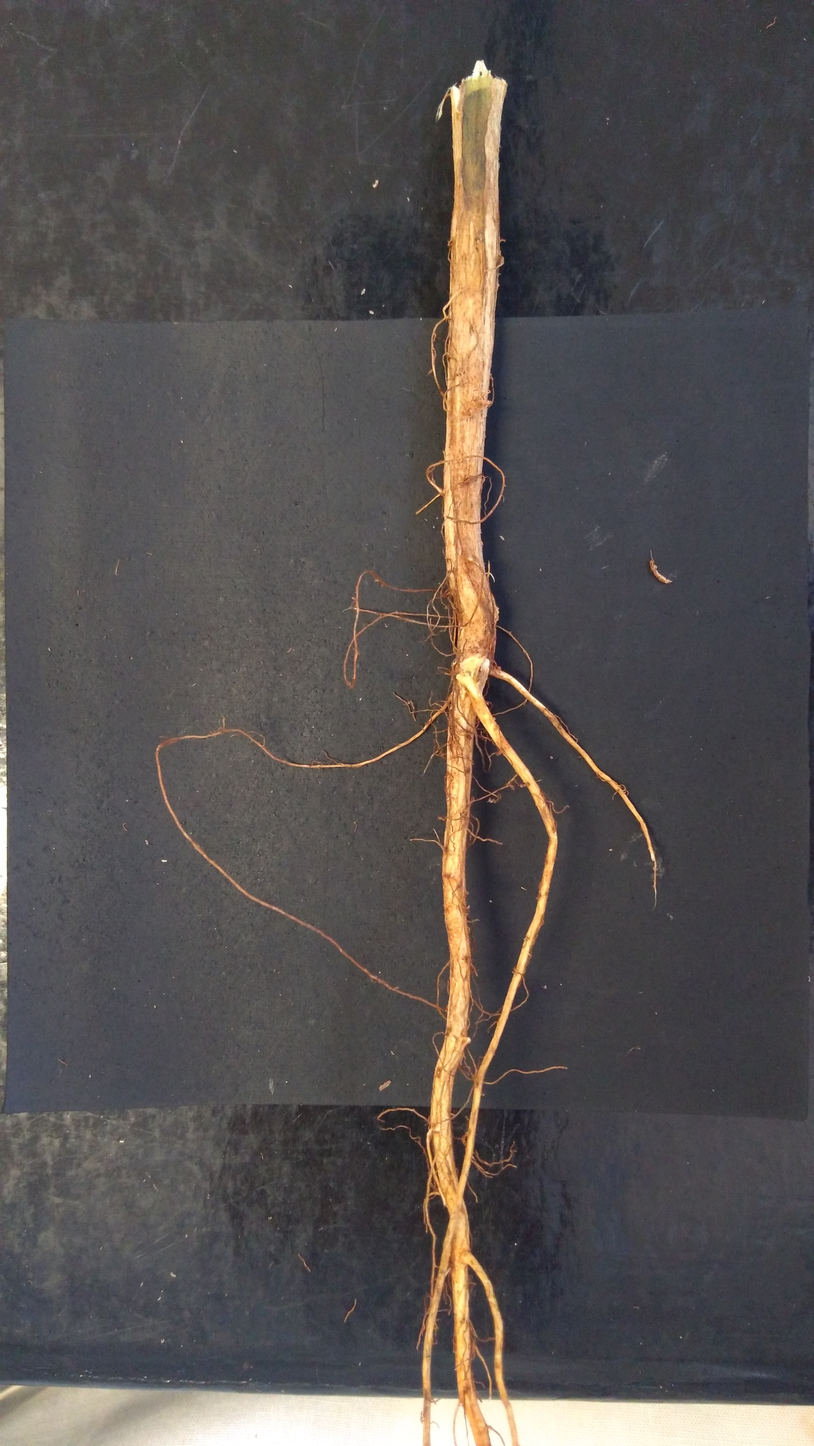nodule: (459, 653, 490, 702), (462, 1036, 471, 1045), (497, 793, 502, 799), (549, 756, 553, 759)
